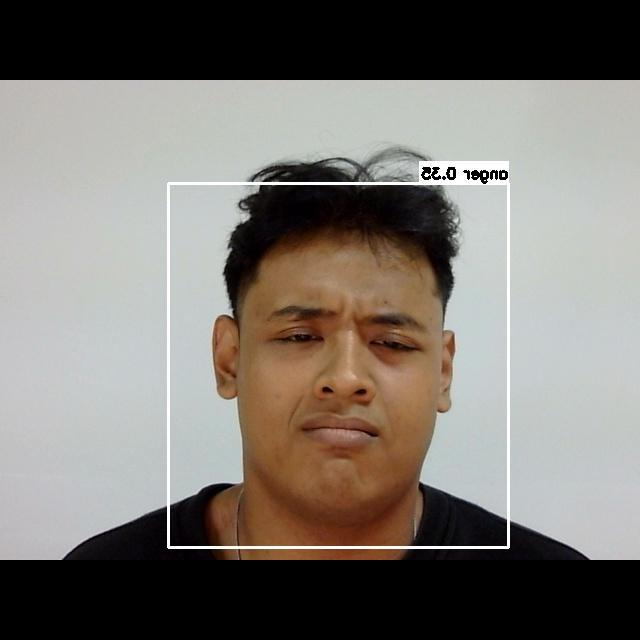Disgust: (240, 274, 437, 482)
